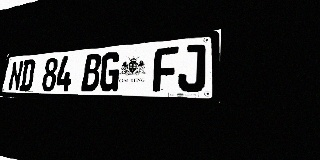4: (55, 56, 74, 91)
8: (41, 57, 59, 91)
B: (81, 53, 102, 91)
D: (19, 59, 36, 91)
F: (152, 46, 179, 92)
G: (99, 51, 121, 92)
J: (177, 44, 206, 92)
N: (8, 60, 24, 91)
